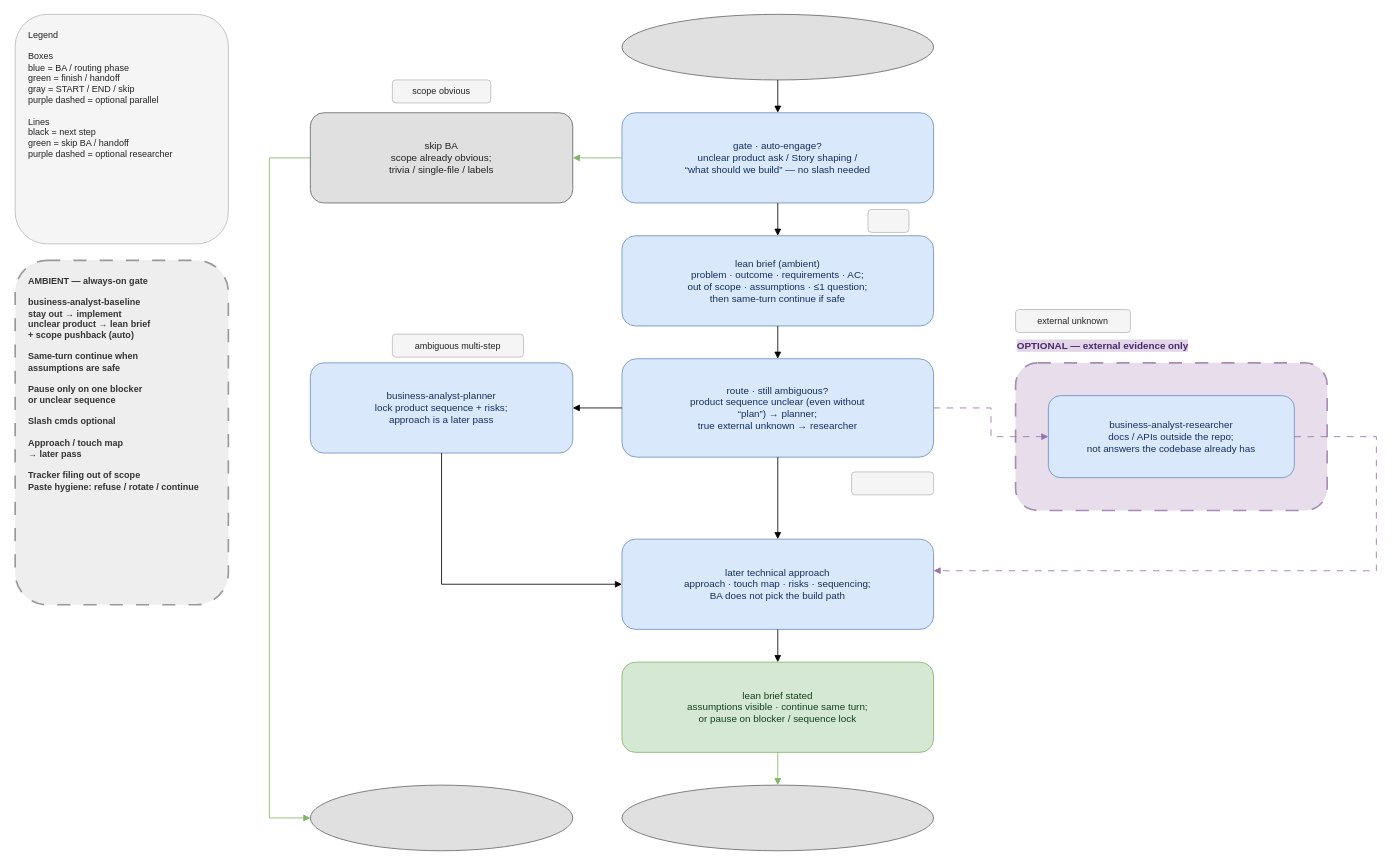
Image size: 1397x865. Some labels were removed from this diagram. Here are the shapes that lost their labels. From the top down, the box of each, then its label:
(621, 14, 934, 80): START — user ask
(867, 209, 909, 232): yes
(851, 471, 934, 495): brief enough
(310, 784, 573, 851): END — skip BA; implement
(621, 784, 934, 851): END — shaped; implement or paused
